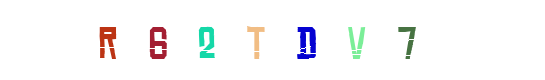2: (184, 0, 264, 80)
6: (166, 0, 246, 80)
7: (368, 0, 448, 80)
D: (267, 0, 347, 80)
R: (93, 0, 173, 80)
T: (234, 0, 314, 80)
V: (300, 0, 380, 80)
